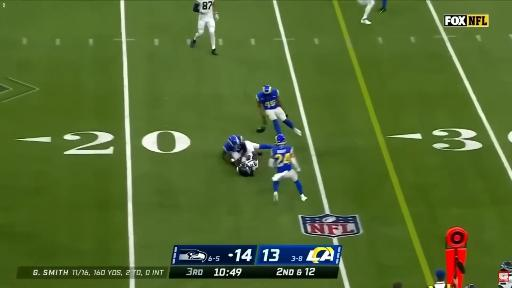Helmet: (237, 163, 253, 176), (228, 136, 242, 146), (500, 261, 511, 271), (276, 135, 286, 145), (263, 85, 271, 93)
Jersey: (272, 146, 293, 173), (256, 89, 279, 110), (224, 136, 245, 152), (196, 0, 214, 18), (241, 156, 258, 169), (499, 272, 511, 287)
Player: (269, 135, 306, 201), (256, 85, 301, 135), (223, 135, 271, 166), (191, 0, 218, 55), (237, 152, 258, 176), (358, 0, 374, 24), (499, 261, 511, 287), (380, 0, 387, 12)
